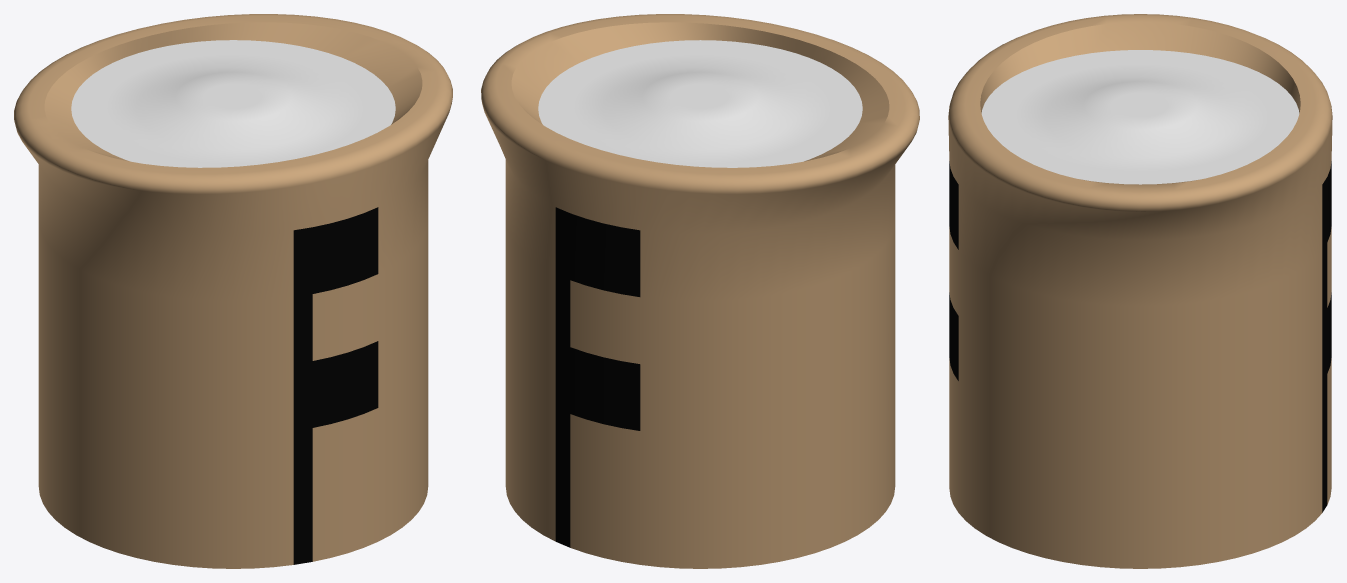
Rendered from Flour.fbx.
3 renders of one model, left to right at view 1: azimuth 30°, elevation 25°; view 2: azimuth 150°, elevation 25°; view 3: azimuth 270°, elevation 25°, orthographic.
Visible parts, largest first — view 1: pCylinder1; view 2: pCylinder1; view 3: pCylinder1.
Boxes of the visible parts, x1=… form: pCylinder1: x1=14, y1=14, x2=452, y2=568; pCylinder1: x1=481, y1=14, x2=919, y2=568; pCylinder1: x1=948, y1=14, x2=1332, y2=568.
Size of the model in its own units: 1.4 by 1.33 by 1.21.
